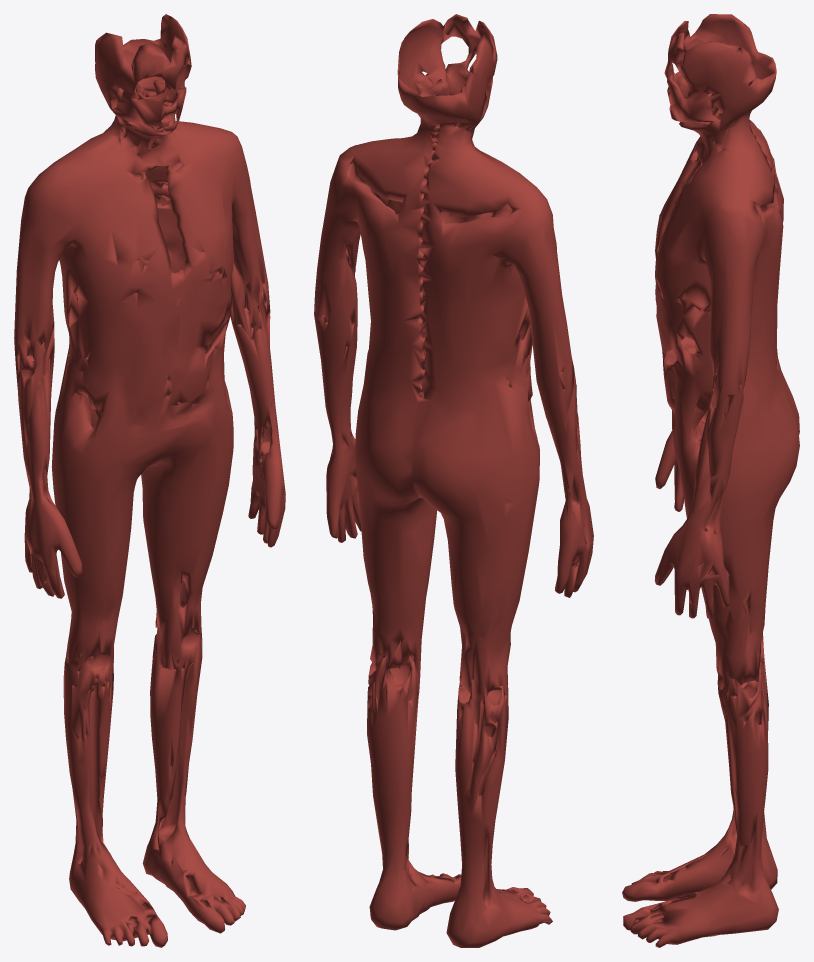
File: pediatric_adolescent_male.muscular.LOD2.glb
3 renders of one model, left to right at view 1: azimuth 30°, elevation 25°; view 2: azimuth 150°, elevation 25°; view 3: azimuth 270°, elevation 25°, orthographic. The views are drawn at different scales.
Visible parts, largest first — view 1: PEDIATRIC.ADOLESCENT.MALE.MUSCULAR.MUSCLE; view 2: PEDIATRIC.ADOLESCENT.MALE.MUSCULAR.MUSCLE; view 3: PEDIATRIC.ADOLESCENT.MALE.MUSCULAR.MUSCLE.
Boxes of the visible parts, x1,y1,x2,y2 form: PEDIATRIC.ADOLESCENT.MALE.MUSCULAR.MUSCLE: (14, 14, 285, 947); PEDIATRIC.ADOLESCENT.MALE.MUSCULAR.MUSCLE: (314, 14, 593, 947); PEDIATRIC.ADOLESCENT.MALE.MUSCULAR.MUSCLE: (622, 14, 799, 947).
Size of the model in its own units: 0.4872 by 1.64 by 0.2965.
